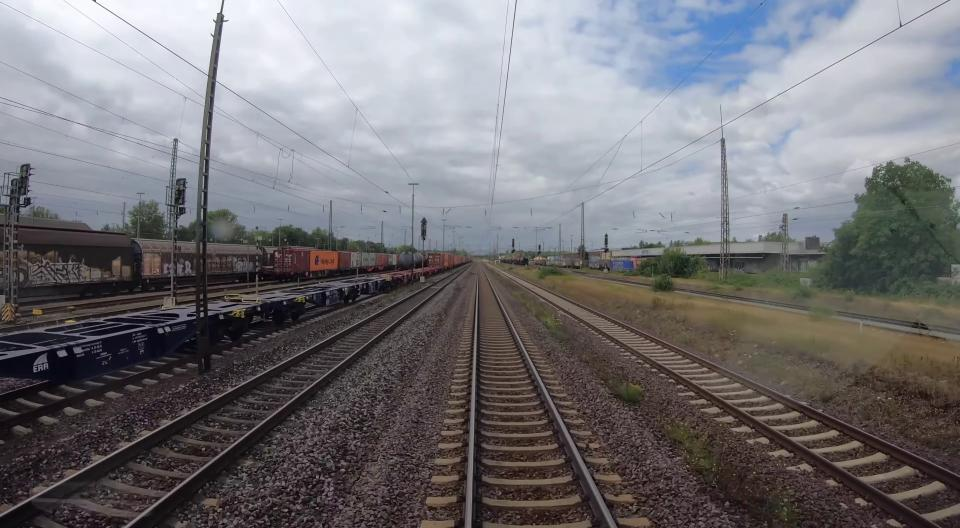Plant: (616, 306, 843, 402), (664, 420, 799, 528), (526, 270, 608, 304), (516, 293, 568, 340), (599, 372, 643, 405)
